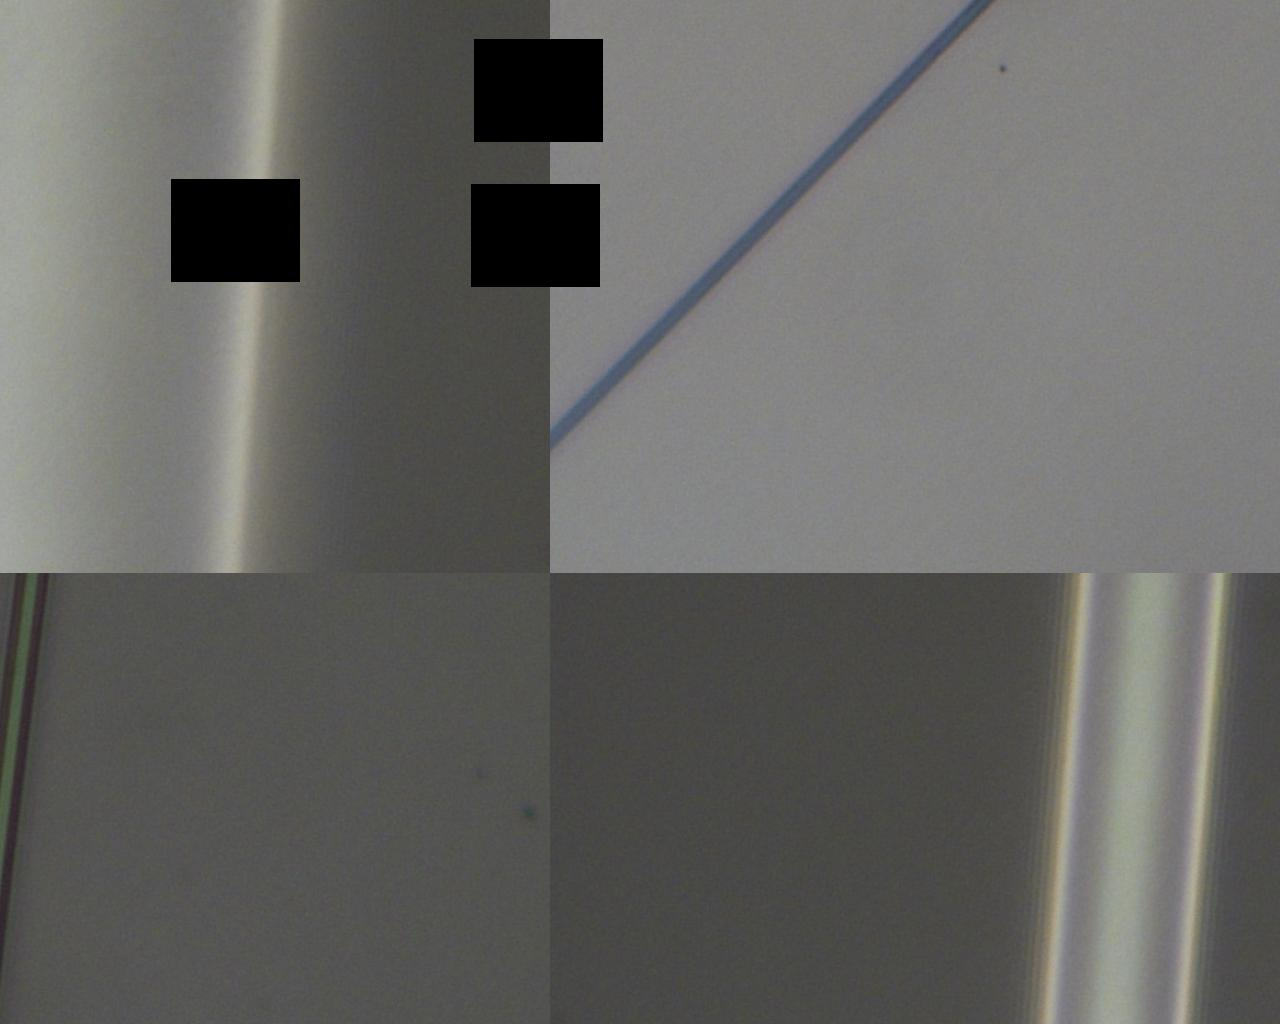fiber: (50, 459, 627, 686), (0, 922, 627, 1024), (627, 364, 1280, 415)
